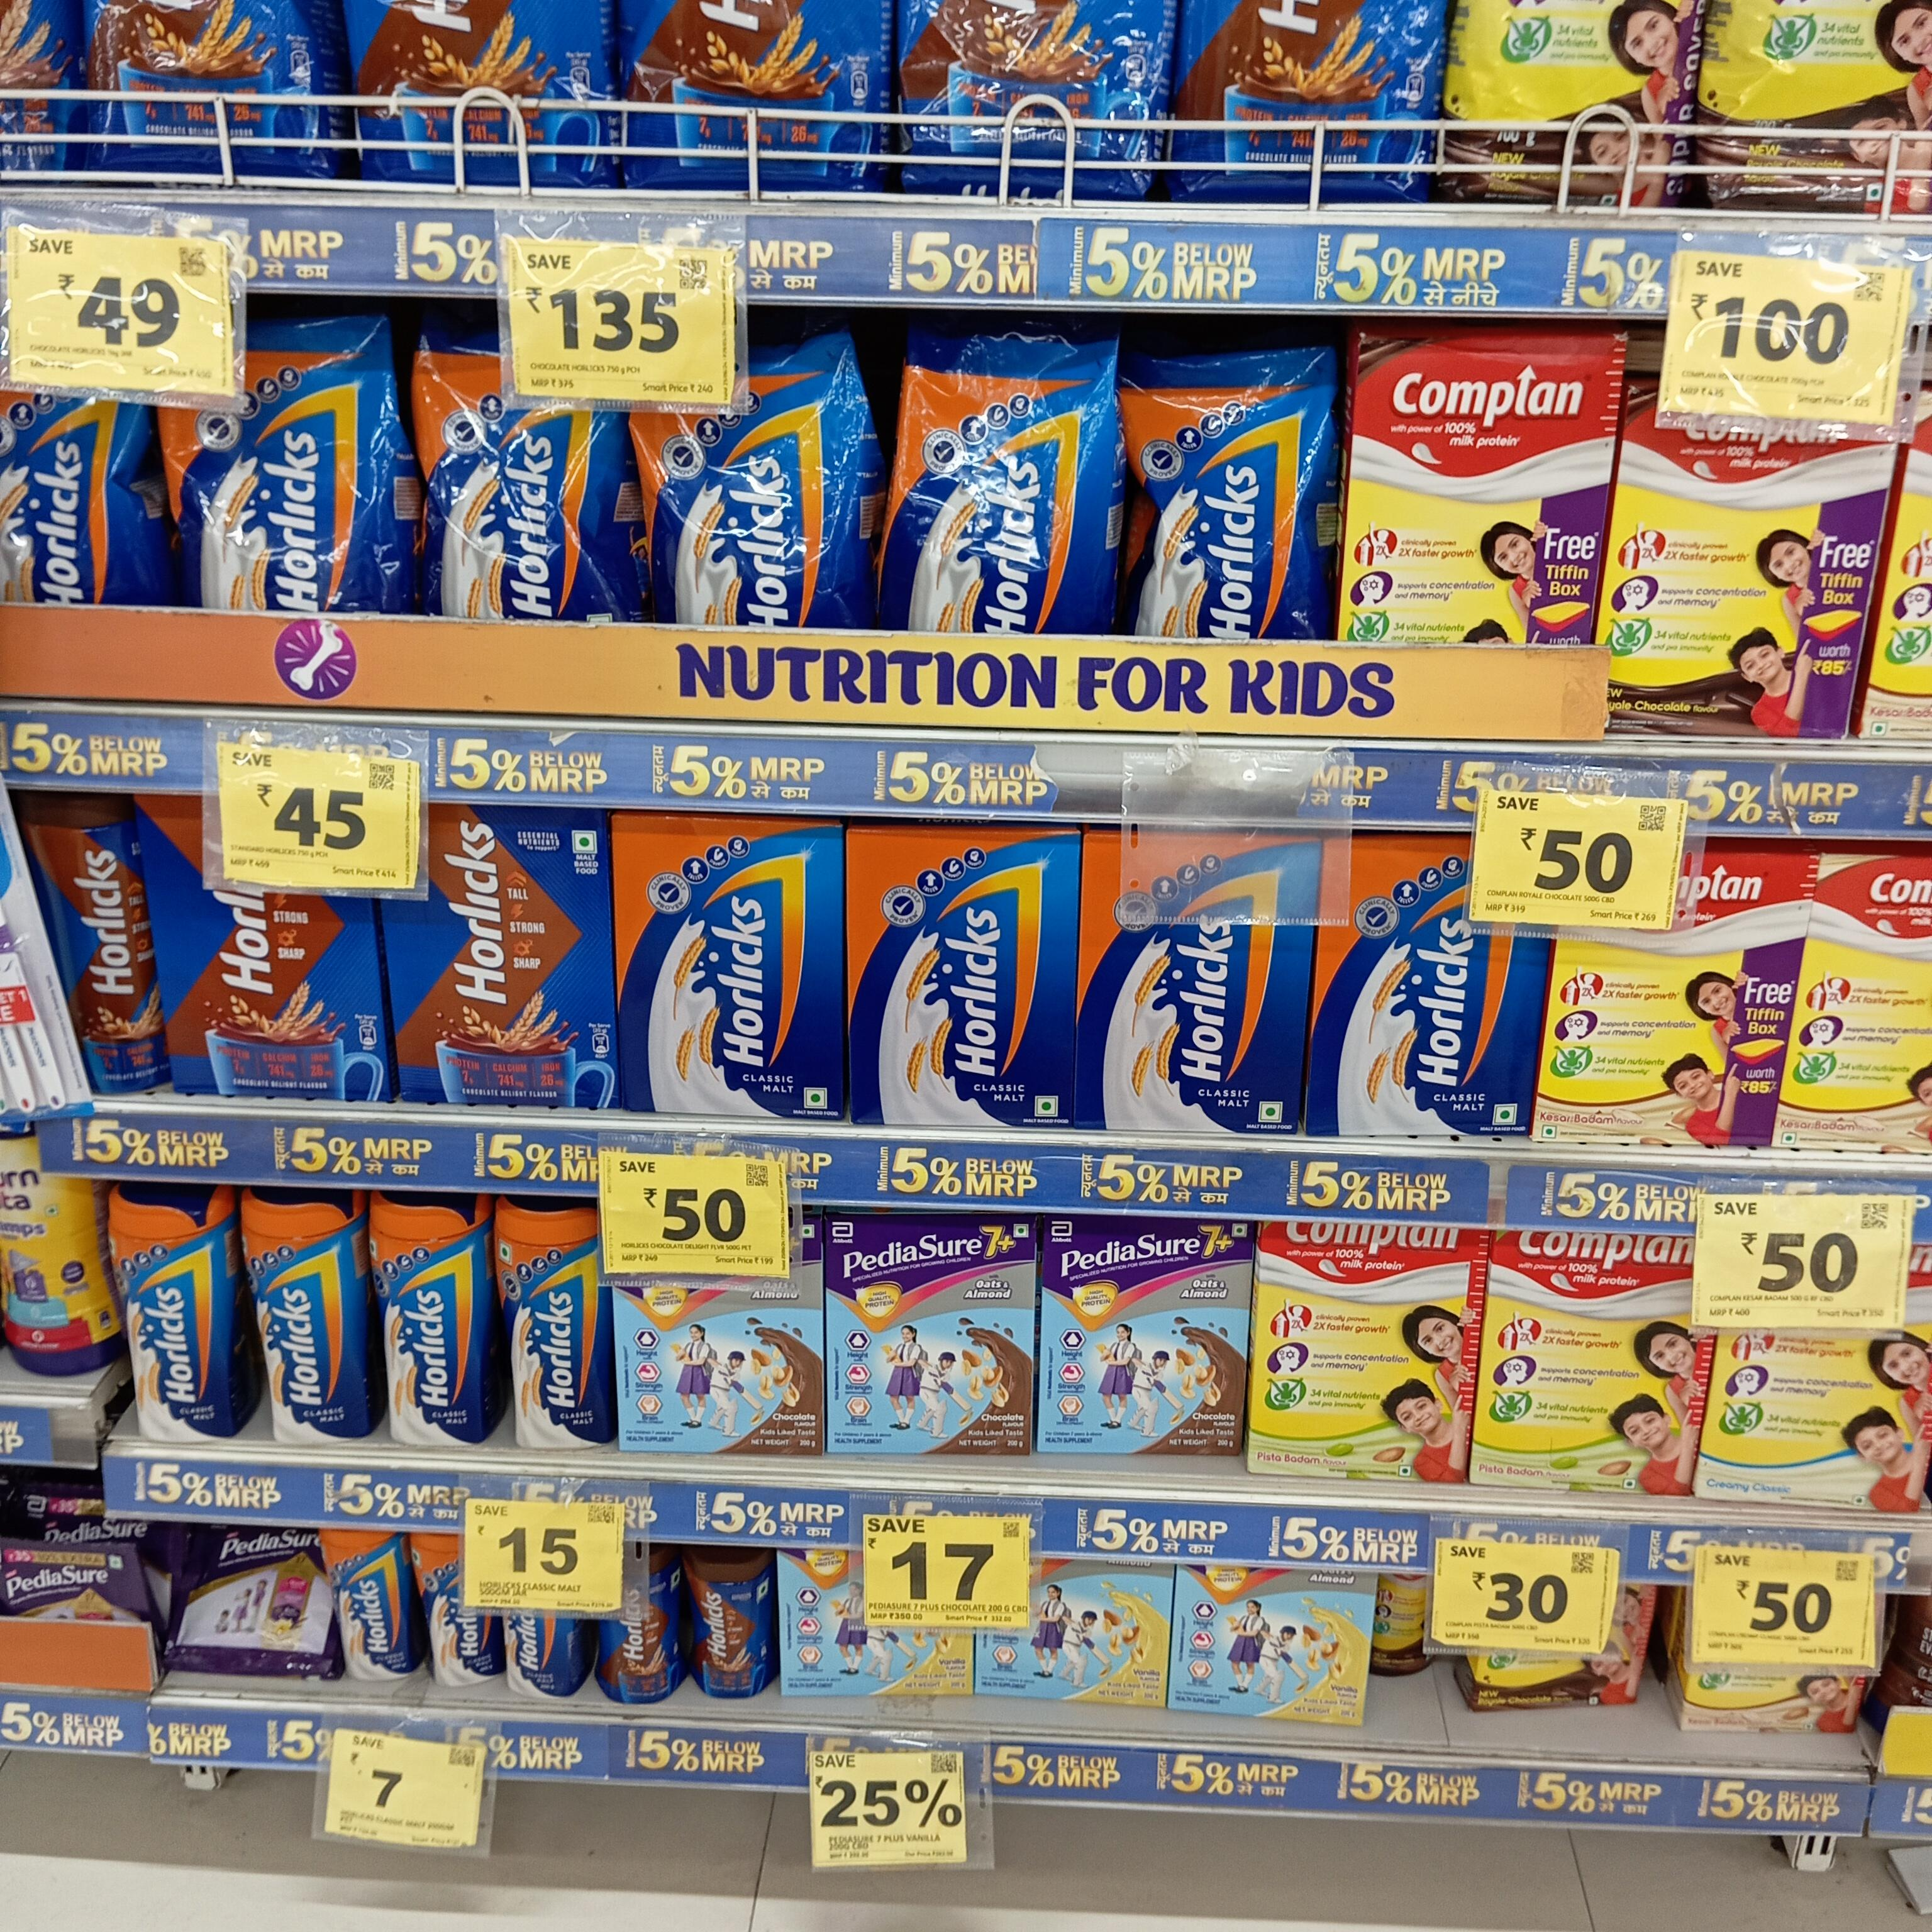COMPLAN_CHOCOLATE_500_GMS_PACK: (1621, 407, 1872, 738), (1357, 326, 1614, 644)
COMPLAN_CREAMY_CLASSIC_500_G_PACK: (1714, 1309, 1932, 1520)
COMPLAN_KESAR_BADAM_500_GMS_PACK: (1552, 858, 1780, 1136), (1789, 847, 1932, 1169)
COMPLAN_PISTA_BADAM_500_GMS_PACK: (1488, 1205, 1702, 1504), (1258, 1214, 1472, 1486)
HORLICK_CHOCOLATE_200_G_JAR: (692, 1552, 775, 1702), (617, 1562, 678, 1706)
HORLICK_CHOCOLATE_500_G_JAR: (14, 777, 143, 1090)
HORLICK_CHOCOLATE_500_G_PACK: (142, 787, 375, 1111), (389, 800, 609, 1116)
HORLICK_CLASSIC_MALT_200_G_JAR: (329, 1532, 409, 1683), (414, 1537, 478, 1693)
HORLICK_CLASSIC_MALT_500_G_JAR: (104, 1173, 232, 1440), (366, 1192, 483, 1454), (251, 1187, 354, 1447), (490, 1200, 594, 1449)
HORLICK_CLASSIC_MALT_500_G_PACK: (1318, 837, 1545, 1143), (1077, 837, 1299, 1143), (614, 819, 839, 1109), (853, 828, 1067, 1127)
HORLICK_CLASSIC_MALT_750_G_POUCH: (892, 334, 1123, 637), (184, 326, 400, 612), (653, 368, 867, 632), (1145, 352, 1343, 633), (416, 345, 621, 616)
PEDIASURE_7_PLUS_CHOCOLATE_400_G_PACK: (832, 1221, 1026, 1465), (1046, 1221, 1246, 1447), (612, 1274, 823, 1461)
